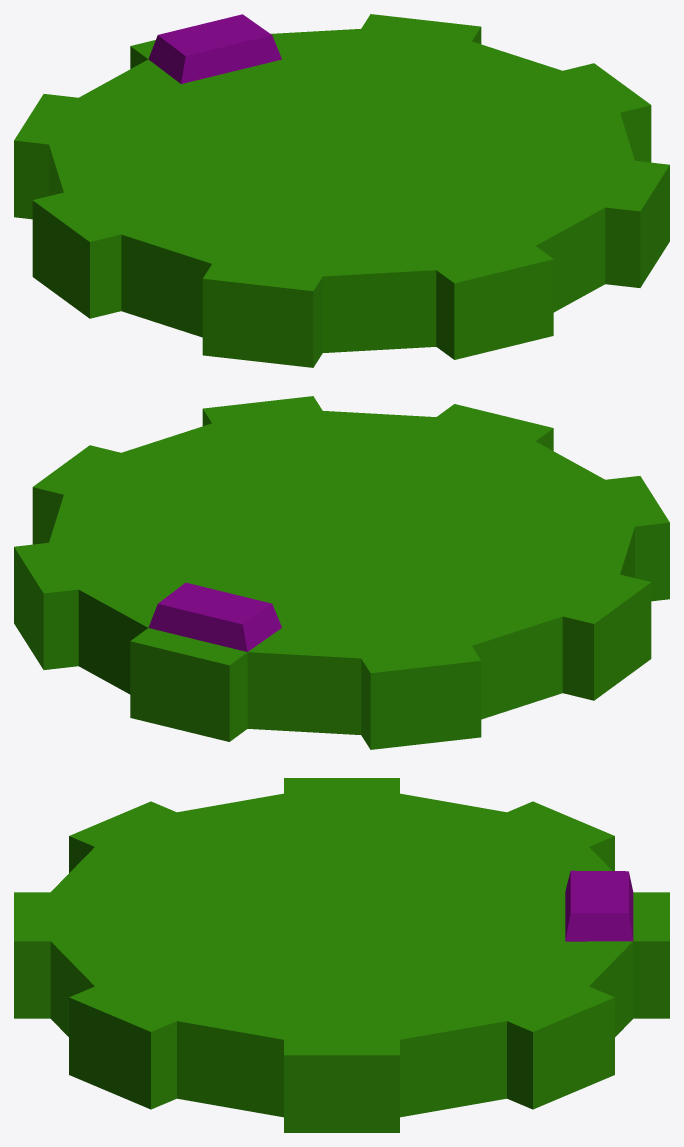
Rendered from kanon-controller-rotateGear.fbx.
The picture shows the model from 3 angles, top to bottom: view 1: azimuth 30°, elevation 25°; view 2: azimuth 150°, elevation 25°; view 3: azimuth 270°, elevation 25°; orthographic projection.
Visible parts, largest first — view 1: Cannon-RotateGear; view 2: Cannon-RotateGear; view 3: Cannon-RotateGear.
Part boxes in pixels (bbox=[...]): Cannon-RotateGear: bbox=[14, 14, 669, 367]; Cannon-RotateGear: bbox=[14, 396, 669, 749]; Cannon-RotateGear: bbox=[14, 778, 669, 1132].
Bounding box in the file's own units: 13.79 × 3.27 × 13.79.
